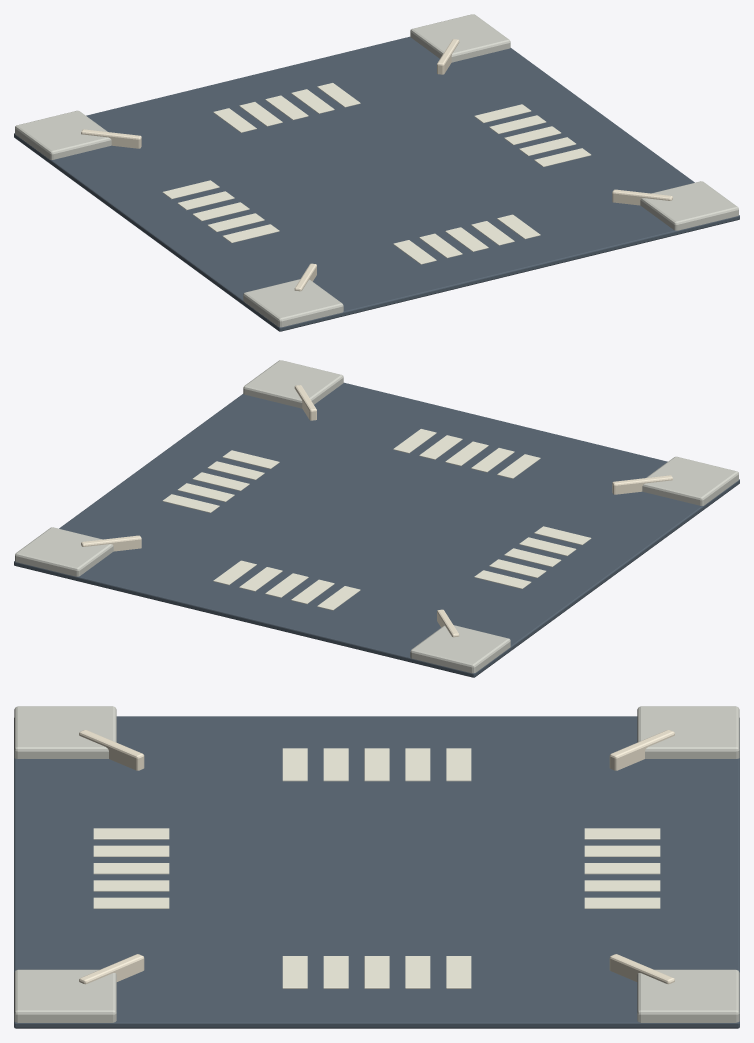
File: SM_SolCity_RoadJunction_01.fbx
The picture shows the model from 3 angles, top to bottom: view 1: azimuth 30°, elevation 25°; view 2: azimuth 150°, elevation 25°; view 3: azimuth 270°, elevation 25°; orthographic projection. The views are drawn at different scales.
Parts seen in each view (by area): view 1: Junction_Asphalt, Junction_CornerWalk_-1_-1, Junction_CornerWalk_1_-1, Junction_CornerWalk_-1_1, Junction_CornerWalk_1_1, Junction_CornerCurb_-1_1, Junction_CornerCurb_1_-1; view 2: Junction_Asphalt, Junction_CornerWalk_-1_1, Junction_CornerWalk_1_1, Junction_CornerWalk_-1_-1, Junction_CornerWalk_1_-1, Junction_CornerCurb_-1_-1, Junction_CornerCurb_1_1; view 3: Junction_Asphalt, Junction_CornerWalk_1_-1, Junction_CornerWalk_1_1, Junction_CornerWalk_-1_-1, Junction_CornerWalk_-1_1, Junction_CornerCurb_-1_-1, Junction_CornerCurb_-1_1, Junction_Crosswalk_0_-1_-2, Junction_Crosswalk_0_-1_1, Junction_Crosswalk_0_1_-2, Junction_Crosswalk_0_1_1, Junction_Crosswalk_0_-1_-1 (+17 smaller).
Part boxes in pixels (left/top/right/bottom): Junction_Asphalt: left=14, top=36, right=739, bottom=331; Junction_CornerWalk_-1_-1: left=243, top=279, right=343, bottom=327; Junction_CornerWalk_1_-1: left=640, top=181, right=738, bottom=230; Junction_CornerWalk_-1_1: left=15, top=110, right=111, bottom=159; Junction_CornerWalk_1_1: left=410, top=14, right=510, bottom=62; Junction_CornerCurb_-1_1: left=81, top=129, right=141, bottom=148; Junction_CornerCurb_1_-1: left=612, top=189, right=672, bottom=205; Junction_Asphalt: left=14, top=382, right=739, bottom=677; Junction_CornerWalk_-1_1: left=410, top=625, right=510, bottom=673; Junction_CornerWalk_1_1: left=15, top=527, right=113, bottom=576; Junction_CornerWalk_-1_-1: left=642, top=456, right=738, bottom=505; Junction_CornerWalk_1_-1: left=243, top=360, right=343, bottom=408; Junction_CornerCurb_-1_-1: left=612, top=475, right=672, bottom=494; Junction_CornerCurb_1_1: left=81, top=535, right=141, bottom=551; Junction_Asphalt: left=14, top=716, right=739, bottom=1028; Junction_CornerWalk_1_-1: left=14, top=969, right=116, bottom=1022; Junction_CornerWalk_1_1: left=637, top=969, right=739, bottom=1022; Junction_CornerWalk_-1_-1: left=14, top=706, right=116, bottom=758; Junction_CornerWalk_-1_1: left=637, top=706, right=739, bottom=758; Junction_CornerCurb_-1_-1: left=79, top=730, right=144, bottom=770; Junction_CornerCurb_-1_1: left=609, top=730, right=674, bottom=770; Junction_Crosswalk_0_-1_-2: left=93, top=828, right=169, bottom=839; Junction_Crosswalk_0_-1_1: left=93, top=880, right=169, bottom=891; Junction_Crosswalk_0_1_-2: left=584, top=828, right=660, bottom=839; Junction_Crosswalk_0_1_1: left=584, top=880, right=660, bottom=891; Junction_Crosswalk_0_-1_-1: left=93, top=845, right=169, bottom=856.
Bounding box in the file's own units: 11 × 11 × 0.35.
